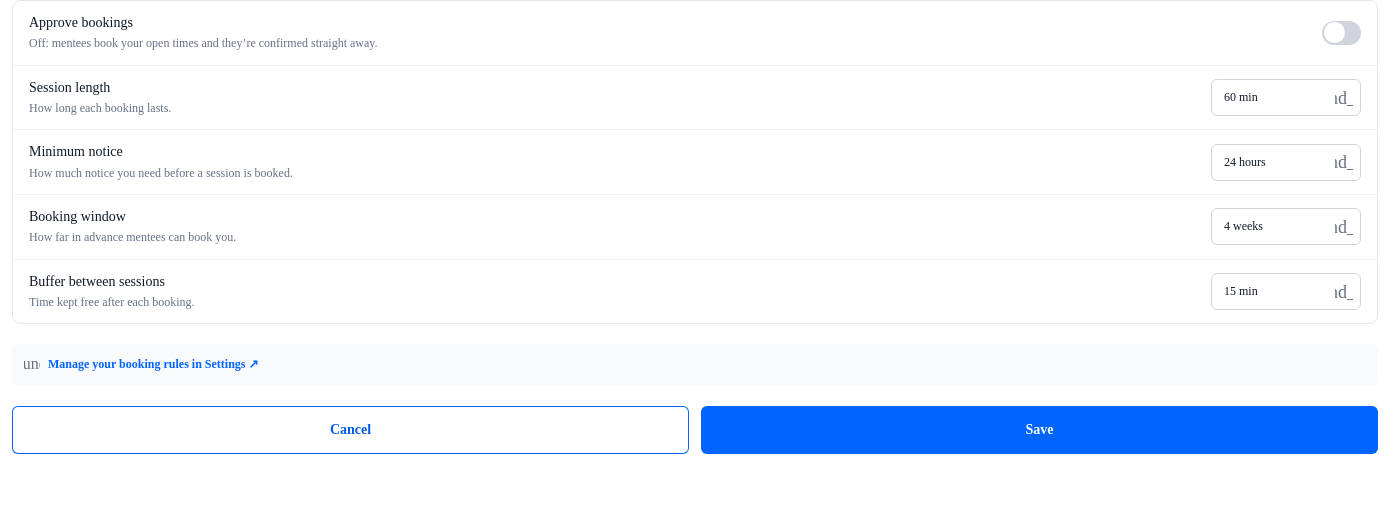
BookingRulesForm › says when the weekly hours can’t fit the chosen length
Click the dropdown named "Session length": (1286, 98) [1211,79,1361,116]
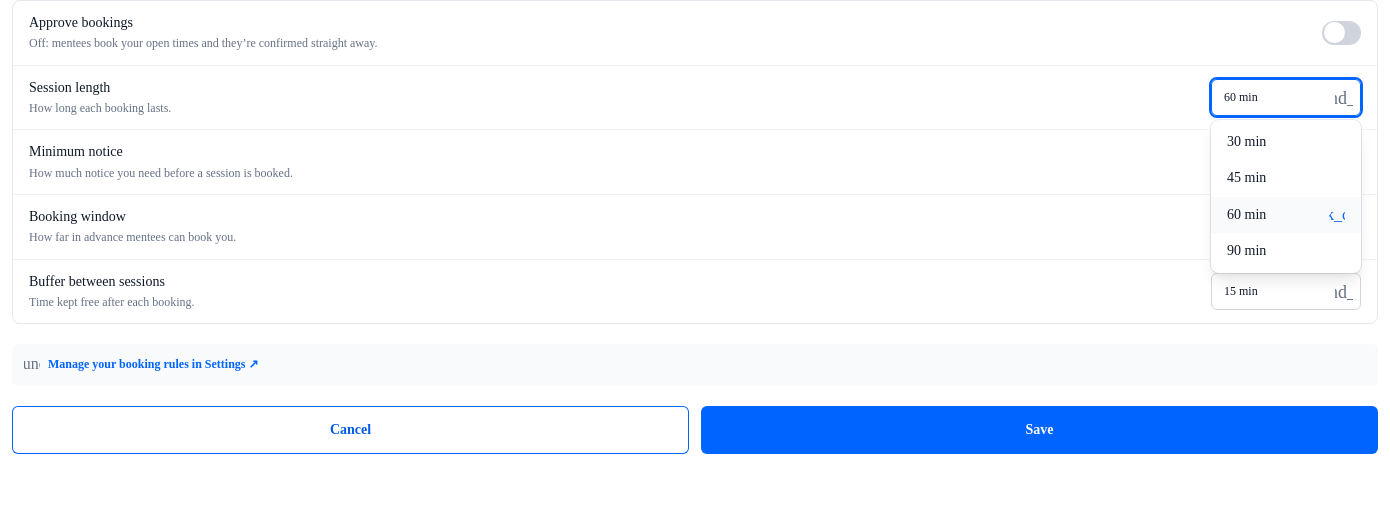
Click the option "90 min": (1247, 250) [1227,243,1266,258]
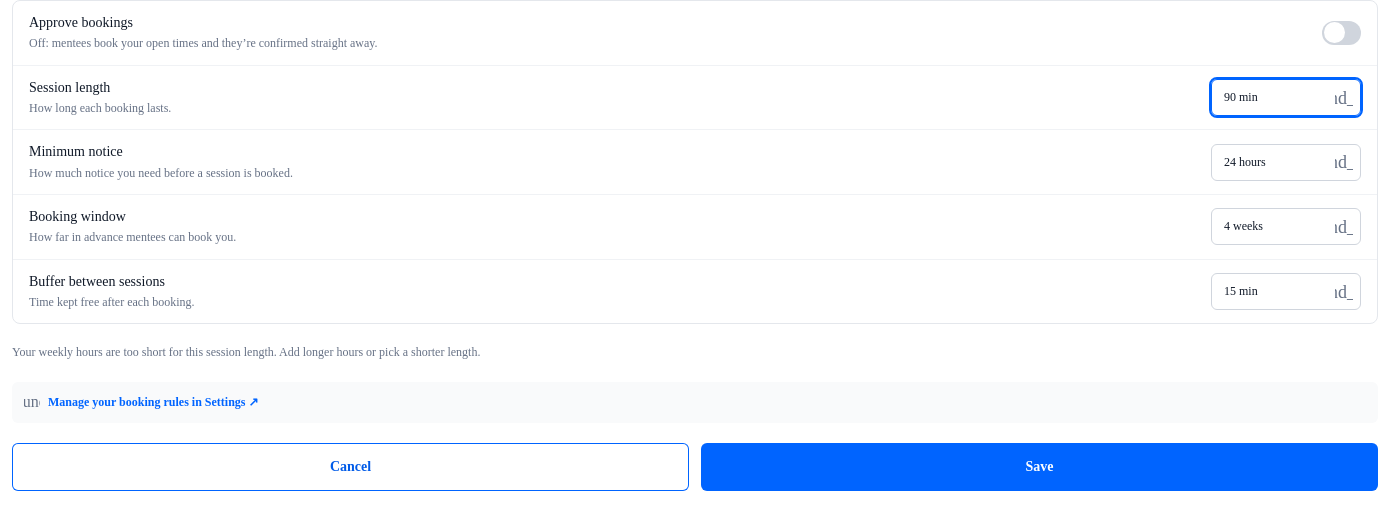
Check: the text "Your weekly hours are too short for this session length. Add longer hours or pick a shorter length." is shown, box [12,345,480,359]
